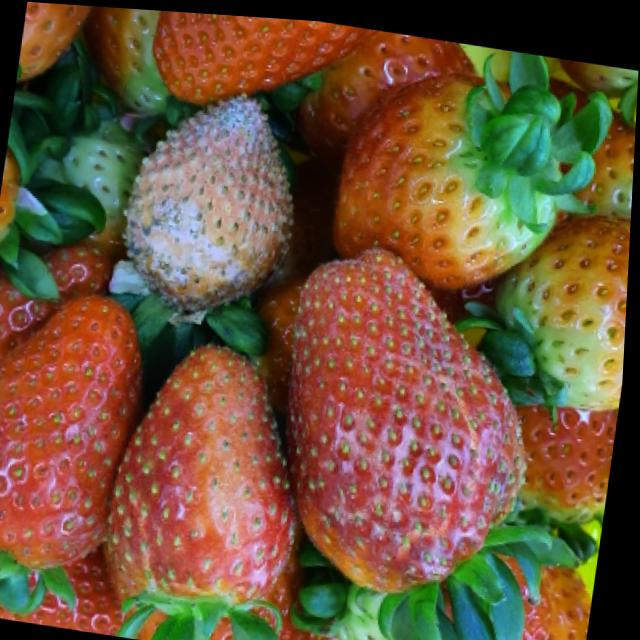Powdery Mildew Fruit: (290, 236, 533, 588), (112, 337, 303, 619), (123, 88, 296, 314)
